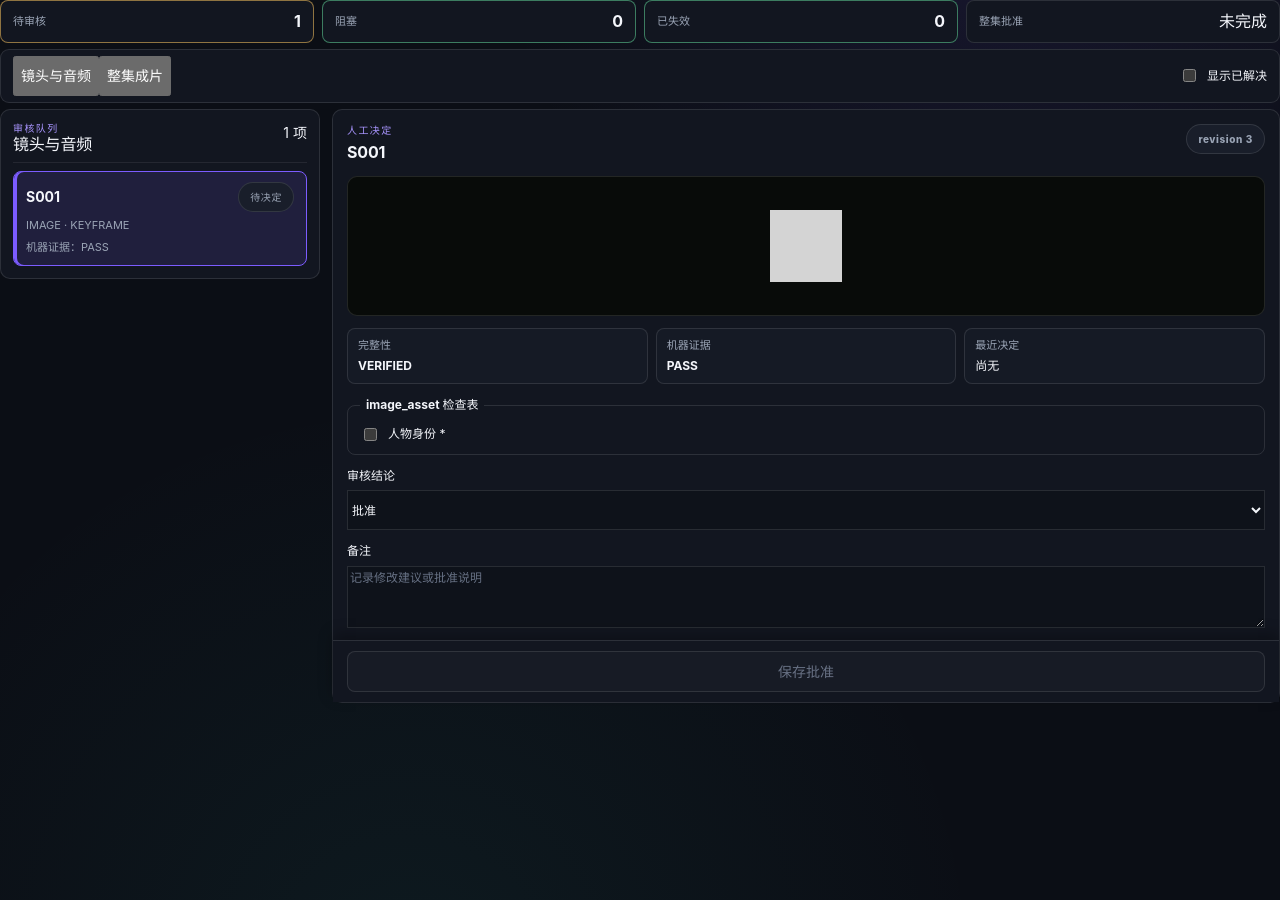
EpisodeReviewWorkspace v2 › loads a bounded typed queue and switches target kinds
This screenshot has width=1280, height=900.
Expected: the button "S001 待决定 IMAGE · KEYFRAME 机器证据：PASS" is shown, x1=13 y1=171 x2=307 y2=266
Expected: the text "人物身份 *" is shown, x1=388 y1=425 x2=445 y2=443
Click the button "整集成片" at (135, 76), box x1=99 y1=56 x2=171 y2=96
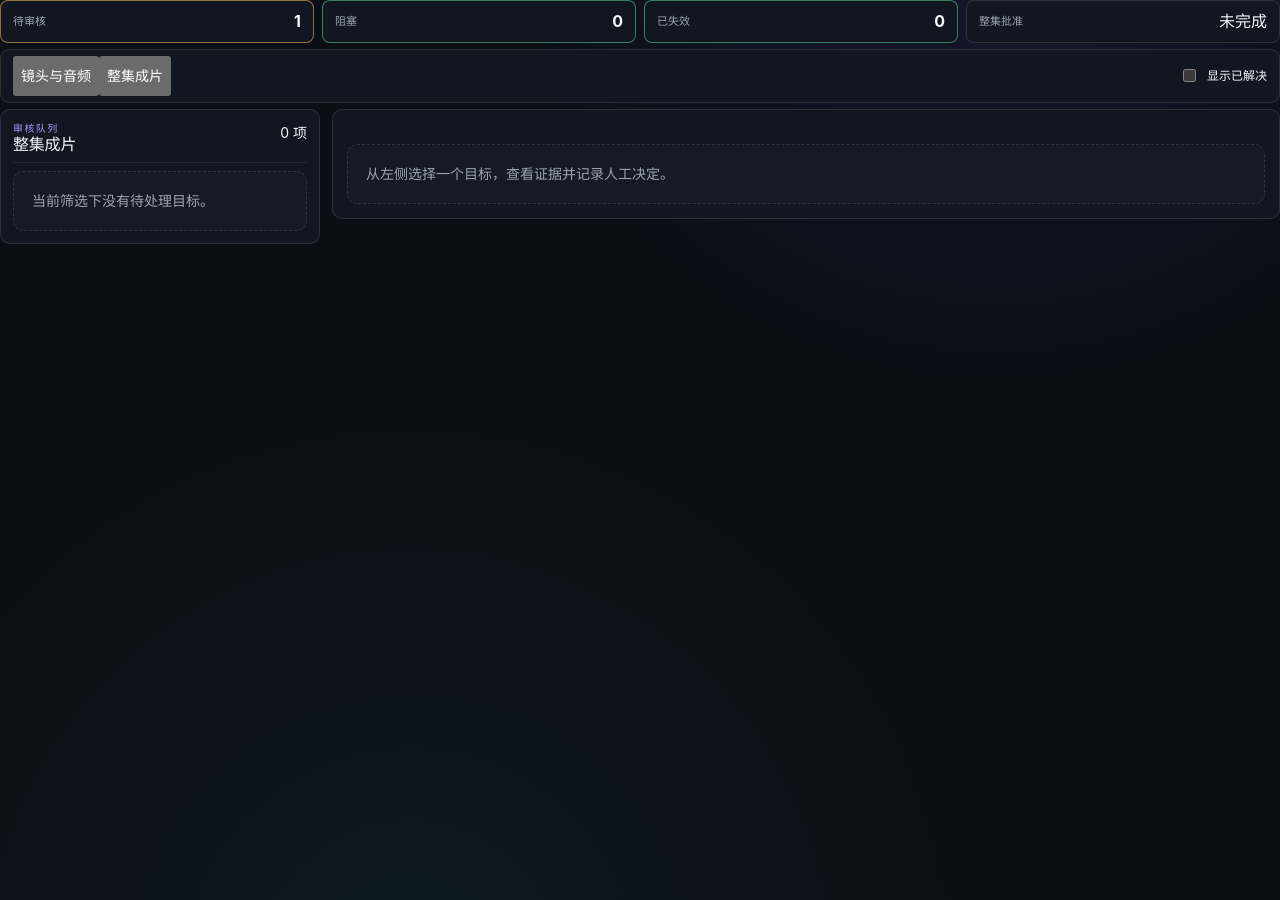
Expected: the text "当前筛选下没有待处理目标。" is shown, x1=13 y1=171 x2=307 y2=231
